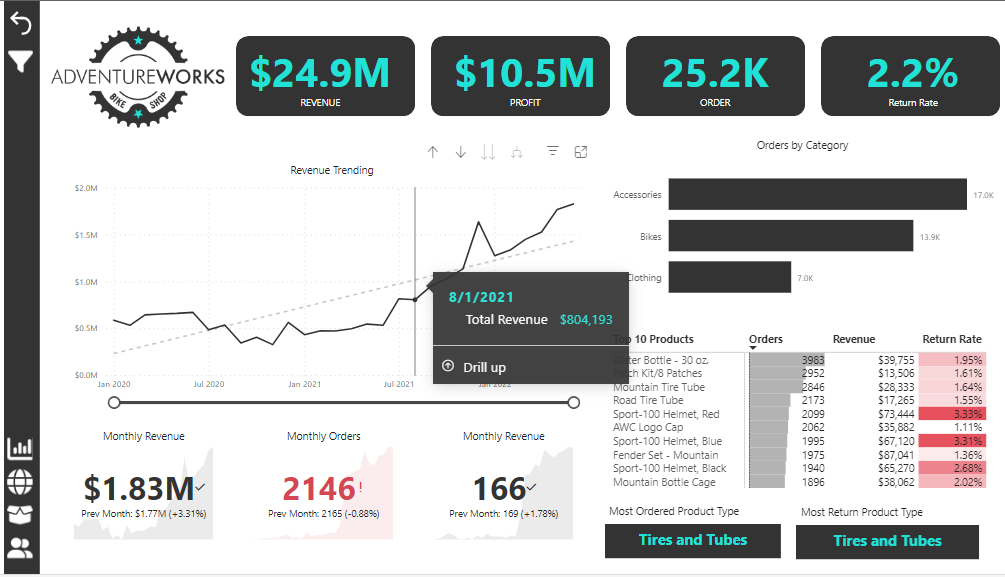

The dashboard page shown, as its layout file describes it:
{"tool":"powerbi","page":{"name":"Exec Dashboard","canvas":[1280,720],"ordinal":0},"visuals":[{"type":"image","title":"AW Logo","box":[30.7,17.6,276.6,155.1],"z":0},{"type":"card","fields":{"Values":["Measure Table.Total Revenue"]},"box":[259,17.6,276.6,155.1],"z":0,"group":"g2"},{"type":"group","id":"g1","title":"KPI BG","box":[291.2,44.4,960,101],"z":0,"group":"g3"},{"type":"shape","box":[291.2,44.4,225.4,101],"z":0,"group":"g1"},{"type":"actionButton","box":[0,543.1,45,40],"z":0,"group":"g4"},{"type":"shape","title":"Left Nav BG","box":[0,0,45,720],"z":1000},{"type":"group","id":"g2","title":"KPI Values","box":[259,17.6,1021.5,155.1],"z":1000,"group":"g3"},{"type":"card","fields":{"Values":["Measure Table.Return Rate"]},"box":[1003.9,17.6,276.6,155.1],"z":1000,"group":"g2"},{"type":"shape","box":[536.1,44.4,225.4,101],"z":1000,"group":"g1"},{"type":"actionButton","box":[0,626.4,45,40],"z":1000,"group":"g4"},{"type":"group","id":"g3","title":"KPIs","box":[259,17.6,1021.5,155.1],"z":2000},{"type":"card","fields":{"Values":["Measure Table.Total Orders"]},"box":[755.1,17.6,276.6,155.1],"z":2000,"group":"g2"},{"type":"shape","box":[781,44.4,225.4,101],"z":2000,"group":"g1"},{"type":"actionButton","box":[0,584.8,45,40],"z":2000,"group":"g4"},{"type":"card","fields":{"Values":["Measure Table.Total Profit"]},"box":[516.6,17.6,276.6,155.1],"z":3000,"group":"g2"},{"type":"shape","box":[1025.8,44.4,225.4,101],"z":3000,"group":"g1"},{"type":"lineChart","title":"Revenue Trending","fields":{"Y":["Measure Table.Total Revenue"],"Category":["Calendar Lookup.Year","Calendar Lookup.Start of Quarter","Calendar Lookup.Start of Month"]},"box":[83.4,203.4,658.5,311.7],"z":3000},{"type":"actionButton","box":[0,668.1,45,40],"z":3000,"group":"g4"},{"type":"kpi","title":"Monthly Revenue","fields":{"Indicator":["Measure Table.Total Revenue"],"TrendLine":["Calendar Lookup.Date Hierarchy.Start of Month"],"Goal":["Measure Table.Previous Month Revenue"]},"box":[83.4,537.5,185,144.3],"z":4000},{"type":"kpi","title":"Monthly Orders","fields":{"TrendLine":["Calendar Lookup.Date Hierarchy.Start of Month"],"Indicator":["Measure Table.Total Orders"],"Goal":["Measure Table.Previous Month Orders"]},"box":[309.5,537.5,185,144.3],"z":5000},{"type":"kpi","title":"Monthly Revenue","fields":{"TrendLine":["Calendar Lookup.Date Hierarchy.Start of Month"],"Goal":["Measure Table.Previous Month Return"],"Indicator":["Measure Table.Total Returns"]},"box":[535.5,537.5,185,144.3],"z":6000},{"type":"clusteredBarChart","title":"Orders by Category","fields":{"Category":["Product Categories Lookup.CategoryName"],"Y":["Measure Table.Total Orders"]},"box":[755.1,172.7,496.1,222.4],"z":7000},{"type":"pivotTable","fields":{"Rows":["Product Lookup.ProductName"],"Values":["Measure Table.Total Orders","Measure Table.Total Revenue","Measure Table.Return Rate"]},"box":[755.1,411.2,494.6,222.4],"z":8000},{"type":"card","fields":{"Values":["Min(Product Subcategories Lookup.SubcategoryName)"]},"box":[755,657,221,43],"z":9000},{"type":"textbox","box":[755,627,198,30],"z":10000},{"type":"card","fields":{"Values":["Min(Product Subcategories Lookup.SubcategoryName)"]},"box":[995,659,230,43],"z":11000},{"type":"textbox","box":[996.3,628.3,163.4,30.6],"z":12000},{"type":"actionButton","box":[1,8,45,40],"z":13000},{"type":"group","id":"g4","title":"Navigation Button","box":[0,543.1,45,165],"z":14000},{"type":"actionButton","title":"Filter","box":[1,56,44,39],"z":16000}]}

Visuals, with their boxes on the page's 1280x720 design canvas (x1, y1, x2, y2). These are canvas units, not pixel positions in the 1005x577 screenshot, which may show the page scaled, cropped or inside an application window:
"AW Logo" image: rect(31, 18, 307, 173)
card - Measure Table.Total Revenue: rect(259, 18, 536, 173)
"KPI BG" group: rect(291, 44, 1251, 145)
shape: rect(291, 44, 517, 145)
actionButton: rect(0, 543, 45, 583)
"Left Nav BG" shape: rect(0, 0, 45, 720)
"KPI Values" group: rect(259, 18, 1280, 173)
card - Measure Table.Return Rate: rect(1004, 18, 1280, 173)
shape: rect(536, 44, 762, 145)
actionButton: rect(0, 626, 45, 666)
"KPIs" group: rect(259, 18, 1280, 173)
card - Measure Table.Total Orders: rect(755, 18, 1032, 173)
shape: rect(781, 44, 1006, 145)
actionButton: rect(0, 585, 45, 625)
card - Measure Table.Total Profit: rect(517, 18, 793, 173)
shape: rect(1026, 44, 1251, 145)
"Revenue Trending" lineChart: rect(83, 203, 742, 515)
actionButton: rect(0, 668, 45, 708)
"Monthly Revenue" kpi: rect(83, 538, 268, 682)
"Monthly Orders" kpi: rect(310, 538, 494, 682)
"Monthly Revenue" kpi: rect(536, 538, 720, 682)
"Orders by Category" clusteredBarChart: rect(755, 173, 1251, 395)
pivotTable - Product Lookup.ProductName x Measure Table.Total Orders: rect(755, 411, 1250, 634)
card - Min(Product Subcategories Lookup.SubcategoryName): rect(755, 657, 976, 700)
textbox: rect(755, 627, 953, 657)
card - Min(Product Subcategories Lookup.SubcategoryName): rect(995, 659, 1225, 702)
textbox: rect(996, 628, 1160, 659)
actionButton: rect(1, 8, 46, 48)
"Navigation Button" group: rect(0, 543, 45, 708)
"Filter" actionButton: rect(1, 56, 45, 95)
